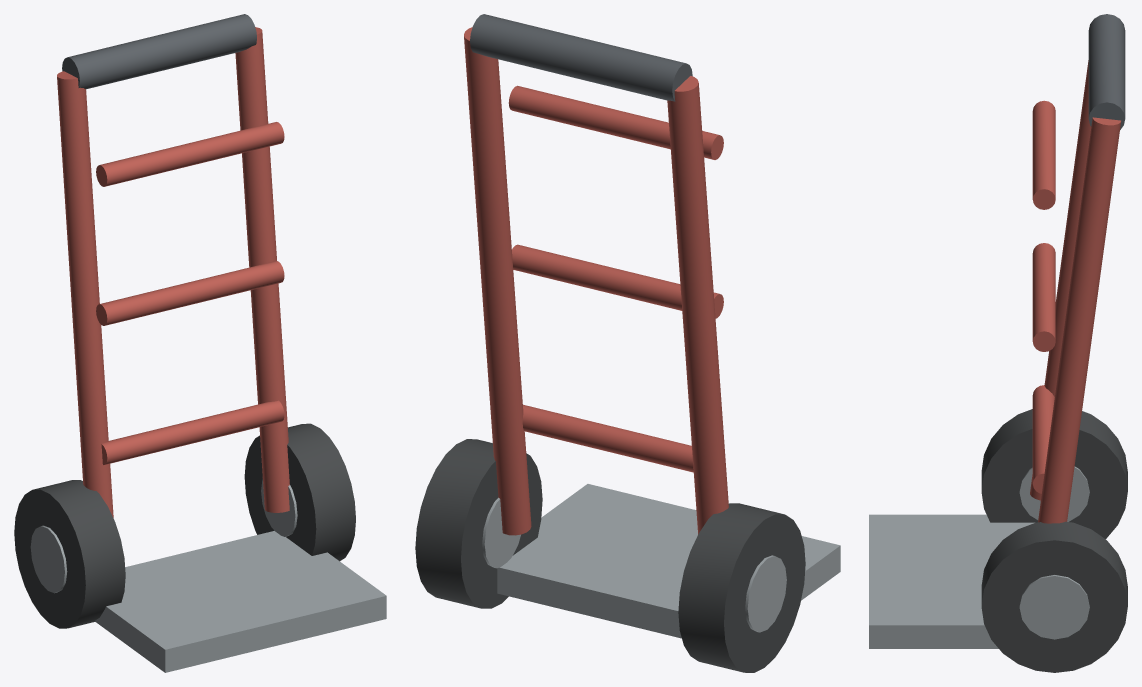
Rendered from hand_truck.glb.
The picture shows the model from 3 angles, left to right: view 1: azimuth 30°, elevation 25°; view 2: azimuth 150°, elevation 25°; view 3: azimuth 270°, elevation 25°; orthographic projection. The views are drawn at different scales.
Visible parts, largest first — view 1: toe_plate_8, upright_1, upright_4, tire_2, tire_5, handle_7, crossbar_11, crossbar_10, crossbar_9, hub_3, hub_6; view 2: toe_plate_8, upright_4, tire_2, upright_1, tire_5, handle_7, crossbar_11, crossbar_10, crossbar_9, hub_3, hub_6; view 3: toe_plate_8, tire_5, upright_4, tire_2, handle_7, upright_1, hub_6, crossbar_11, crossbar_10, crossbar_9, hub_3.
Part boxes in pixels (x1,y1,x2,y2): toe_plate_8: (94, 531, 386, 672); upright_1: (57, 71, 113, 517); upright_4: (235, 27, 289, 512); tire_2: (14, 480, 125, 628); tire_5: (244, 423, 355, 561); handle_7: (62, 14, 256, 89); crossbar_11: (96, 122, 284, 186); crossbar_10: (96, 261, 284, 325); crossbar_9: (101, 400, 284, 464); hub_3: (30, 525, 67, 593); hub_6: (261, 479, 297, 536); toe_plate_8: (497, 484, 840, 638); upright_4: (464, 27, 531, 535); tire_2: (678, 503, 805, 672); upright_1: (667, 76, 728, 534); tire_5: (415, 439, 542, 608); handle_7: (470, 14, 692, 101); crossbar_11: (508, 85, 723, 159); crossbar_10: (512, 244, 723, 318); crossbar_9: (522, 404, 693, 472); hub_3: (745, 555, 786, 632); hub_6: (482, 497, 520, 568); toe_plate_8: (869, 514, 1034, 648); tire_5: (981, 521, 1127, 672); upright_4: (1038, 117, 1121, 523); tire_2: (981, 409, 1127, 538); handle_7: (1088, 14, 1125, 129); upright_1: (1030, 60, 1091, 500); hub_6: (1019, 575, 1089, 639); crossbar_11: (1032, 100, 1055, 209); crossbar_10: (1032, 243, 1055, 351); crossbar_9: (1032, 385, 1054, 493); hub_3: (1019, 466, 1089, 521).
Size of the model in its own units: 0.62 by 1.15 by 0.495.
